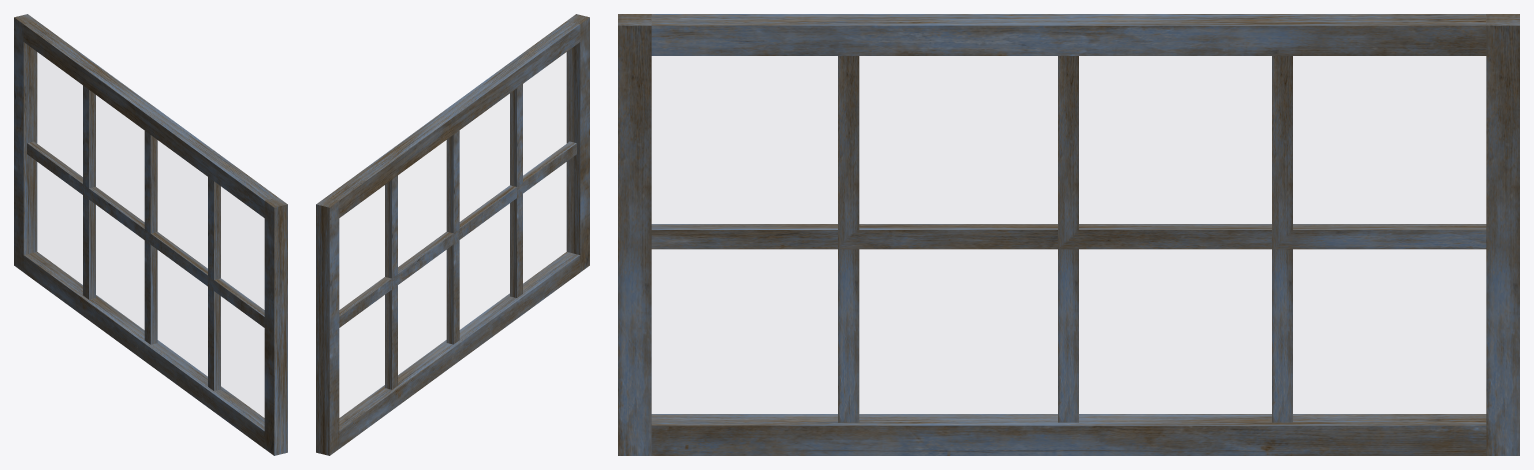
Rendered from unfinished_house_window_frame.glb.
The picture shows the model from 3 angles, left to right: view 1: azimuth 30°, elevation 25°; view 2: azimuth 150°, elevation 25°; view 3: azimuth 270°, elevation 25°; orthographic projection. The views are drawn at different scales.
Visible parts, largest first — view 1: Plane.228; view 2: Plane.228; view 3: Plane.228.
Boxes of the visible parts, x1,y1,x2,y2 form: Plane.228: (14,14,287,455); Plane.228: (316,14,589,455); Plane.228: (618,14,1519,455).
Size of the model in its own units: 0.0284 by 0.4953 by 0.9405.
2 materials, 1 textured.
